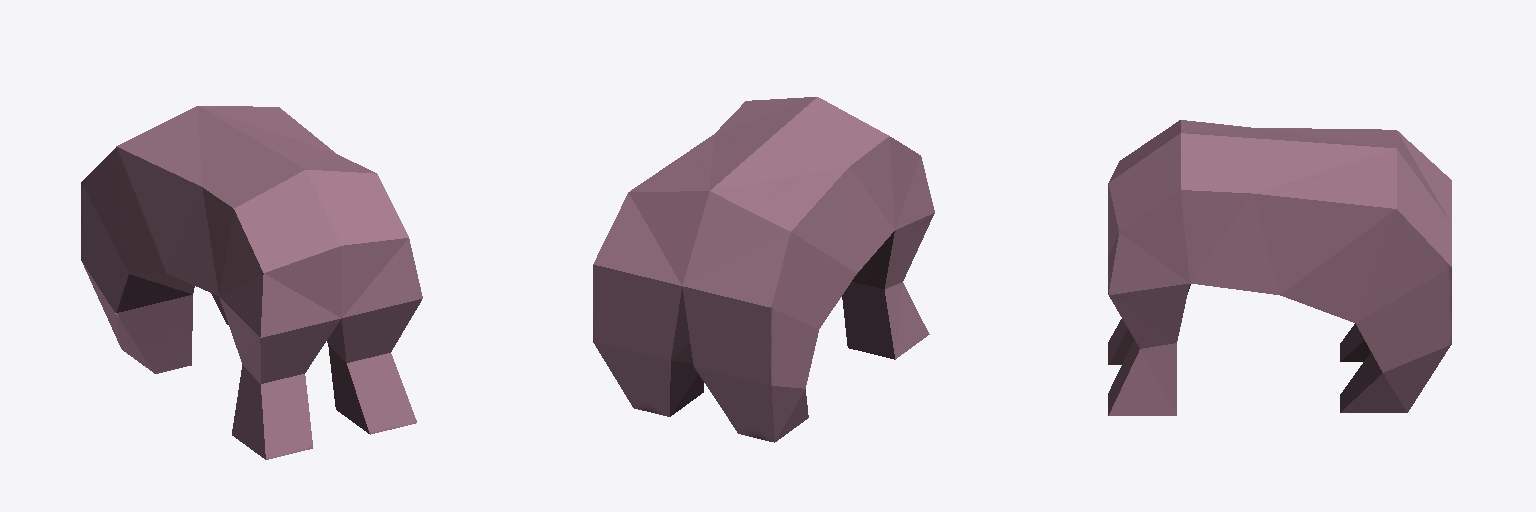
3 views of the same model, side by side, from view 1: azimuth 30°, elevation 25°; view 2: azimuth 150°, elevation 25°; view 3: azimuth 270°, elevation 25° (orthographic).
Visible parts, largest first — view 1: Cube; view 2: Cube; view 3: Cube.
Part boxes in pixels (left/top/right/bottom): Cube: left=81, top=106, right=422, bottom=459; Cube: left=593, top=97, right=934, bottom=442; Cube: left=1108, top=120, right=1451, bottom=415.
Size of the model in its own units: 1.2 by 1.58 by 2.
1 materials, 1 textured.